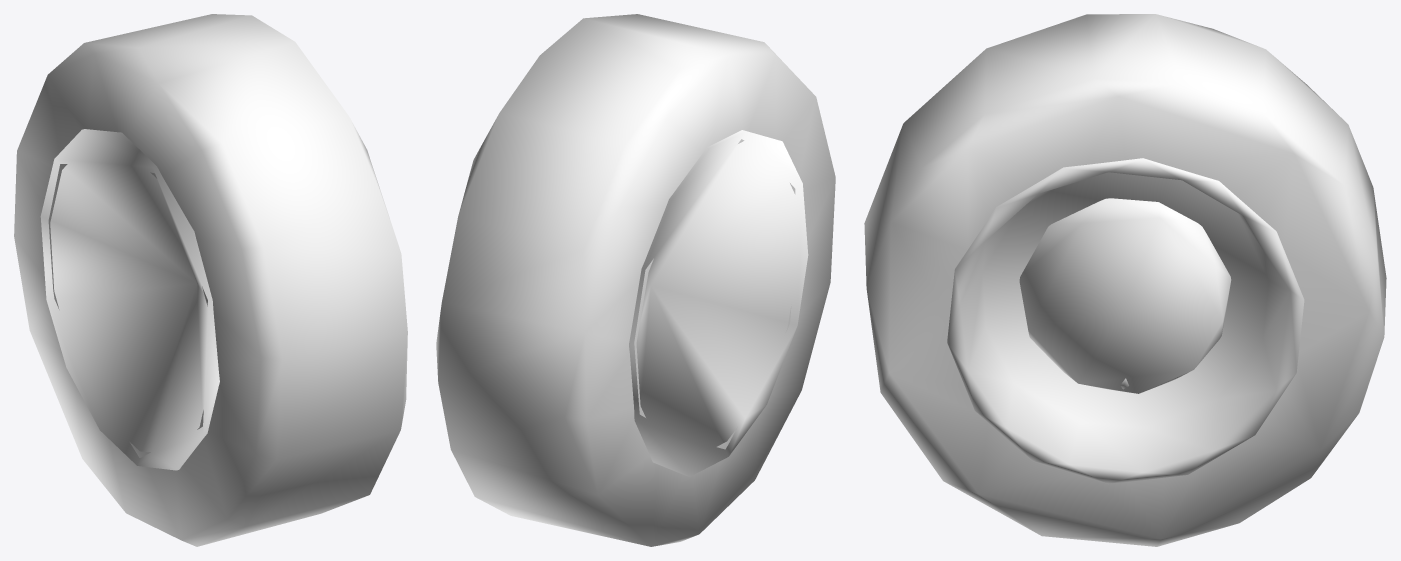
3 renders of one model, left to right at view 1: azimuth 30°, elevation 25°; view 2: azimuth 150°, elevation 25°; view 3: azimuth 270°, elevation 25°, orthographic.
Bounding box in the file's own units: 0.1933 × 0.5114 × 0.5112.
Materials: 1 (1 with a texture image).
